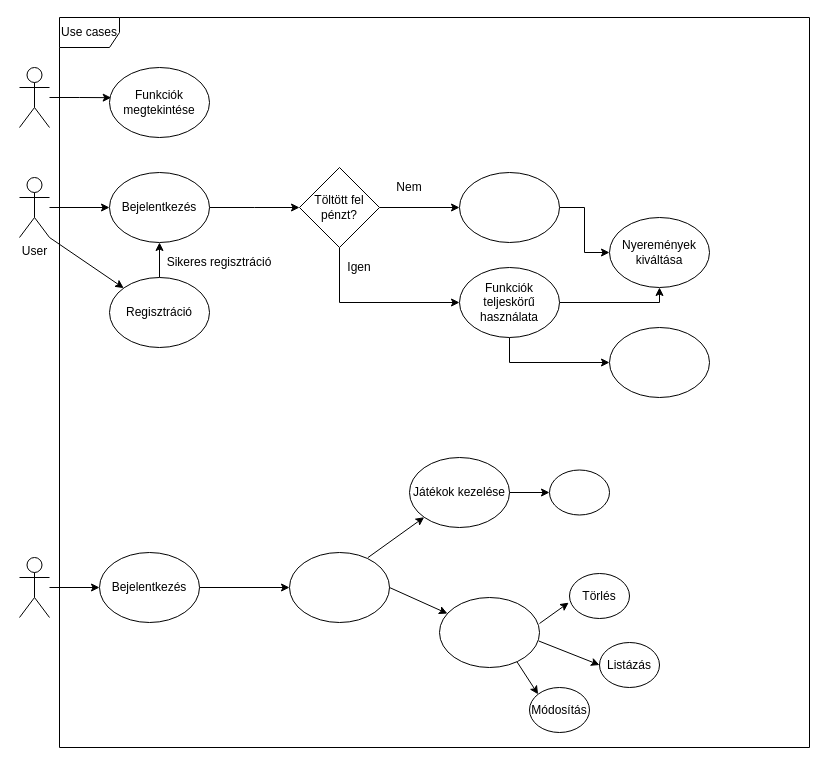
This 827x765 diagram has some shape labels left out. The shapes that lost their labels are listed below. From the top down, each one's centre as x and y in pixels, then its label:
At point 34,97: "Guest".
At point 509,207: "Funkciók használata kis téttel".
At point 659,362: "Egyenleg kivétele".
At point 579,492: "Frissítés".
At point 34,587: "Admin".
At point 339,587: "Admin menü".
At point 489,632: "Userek kezelése".
